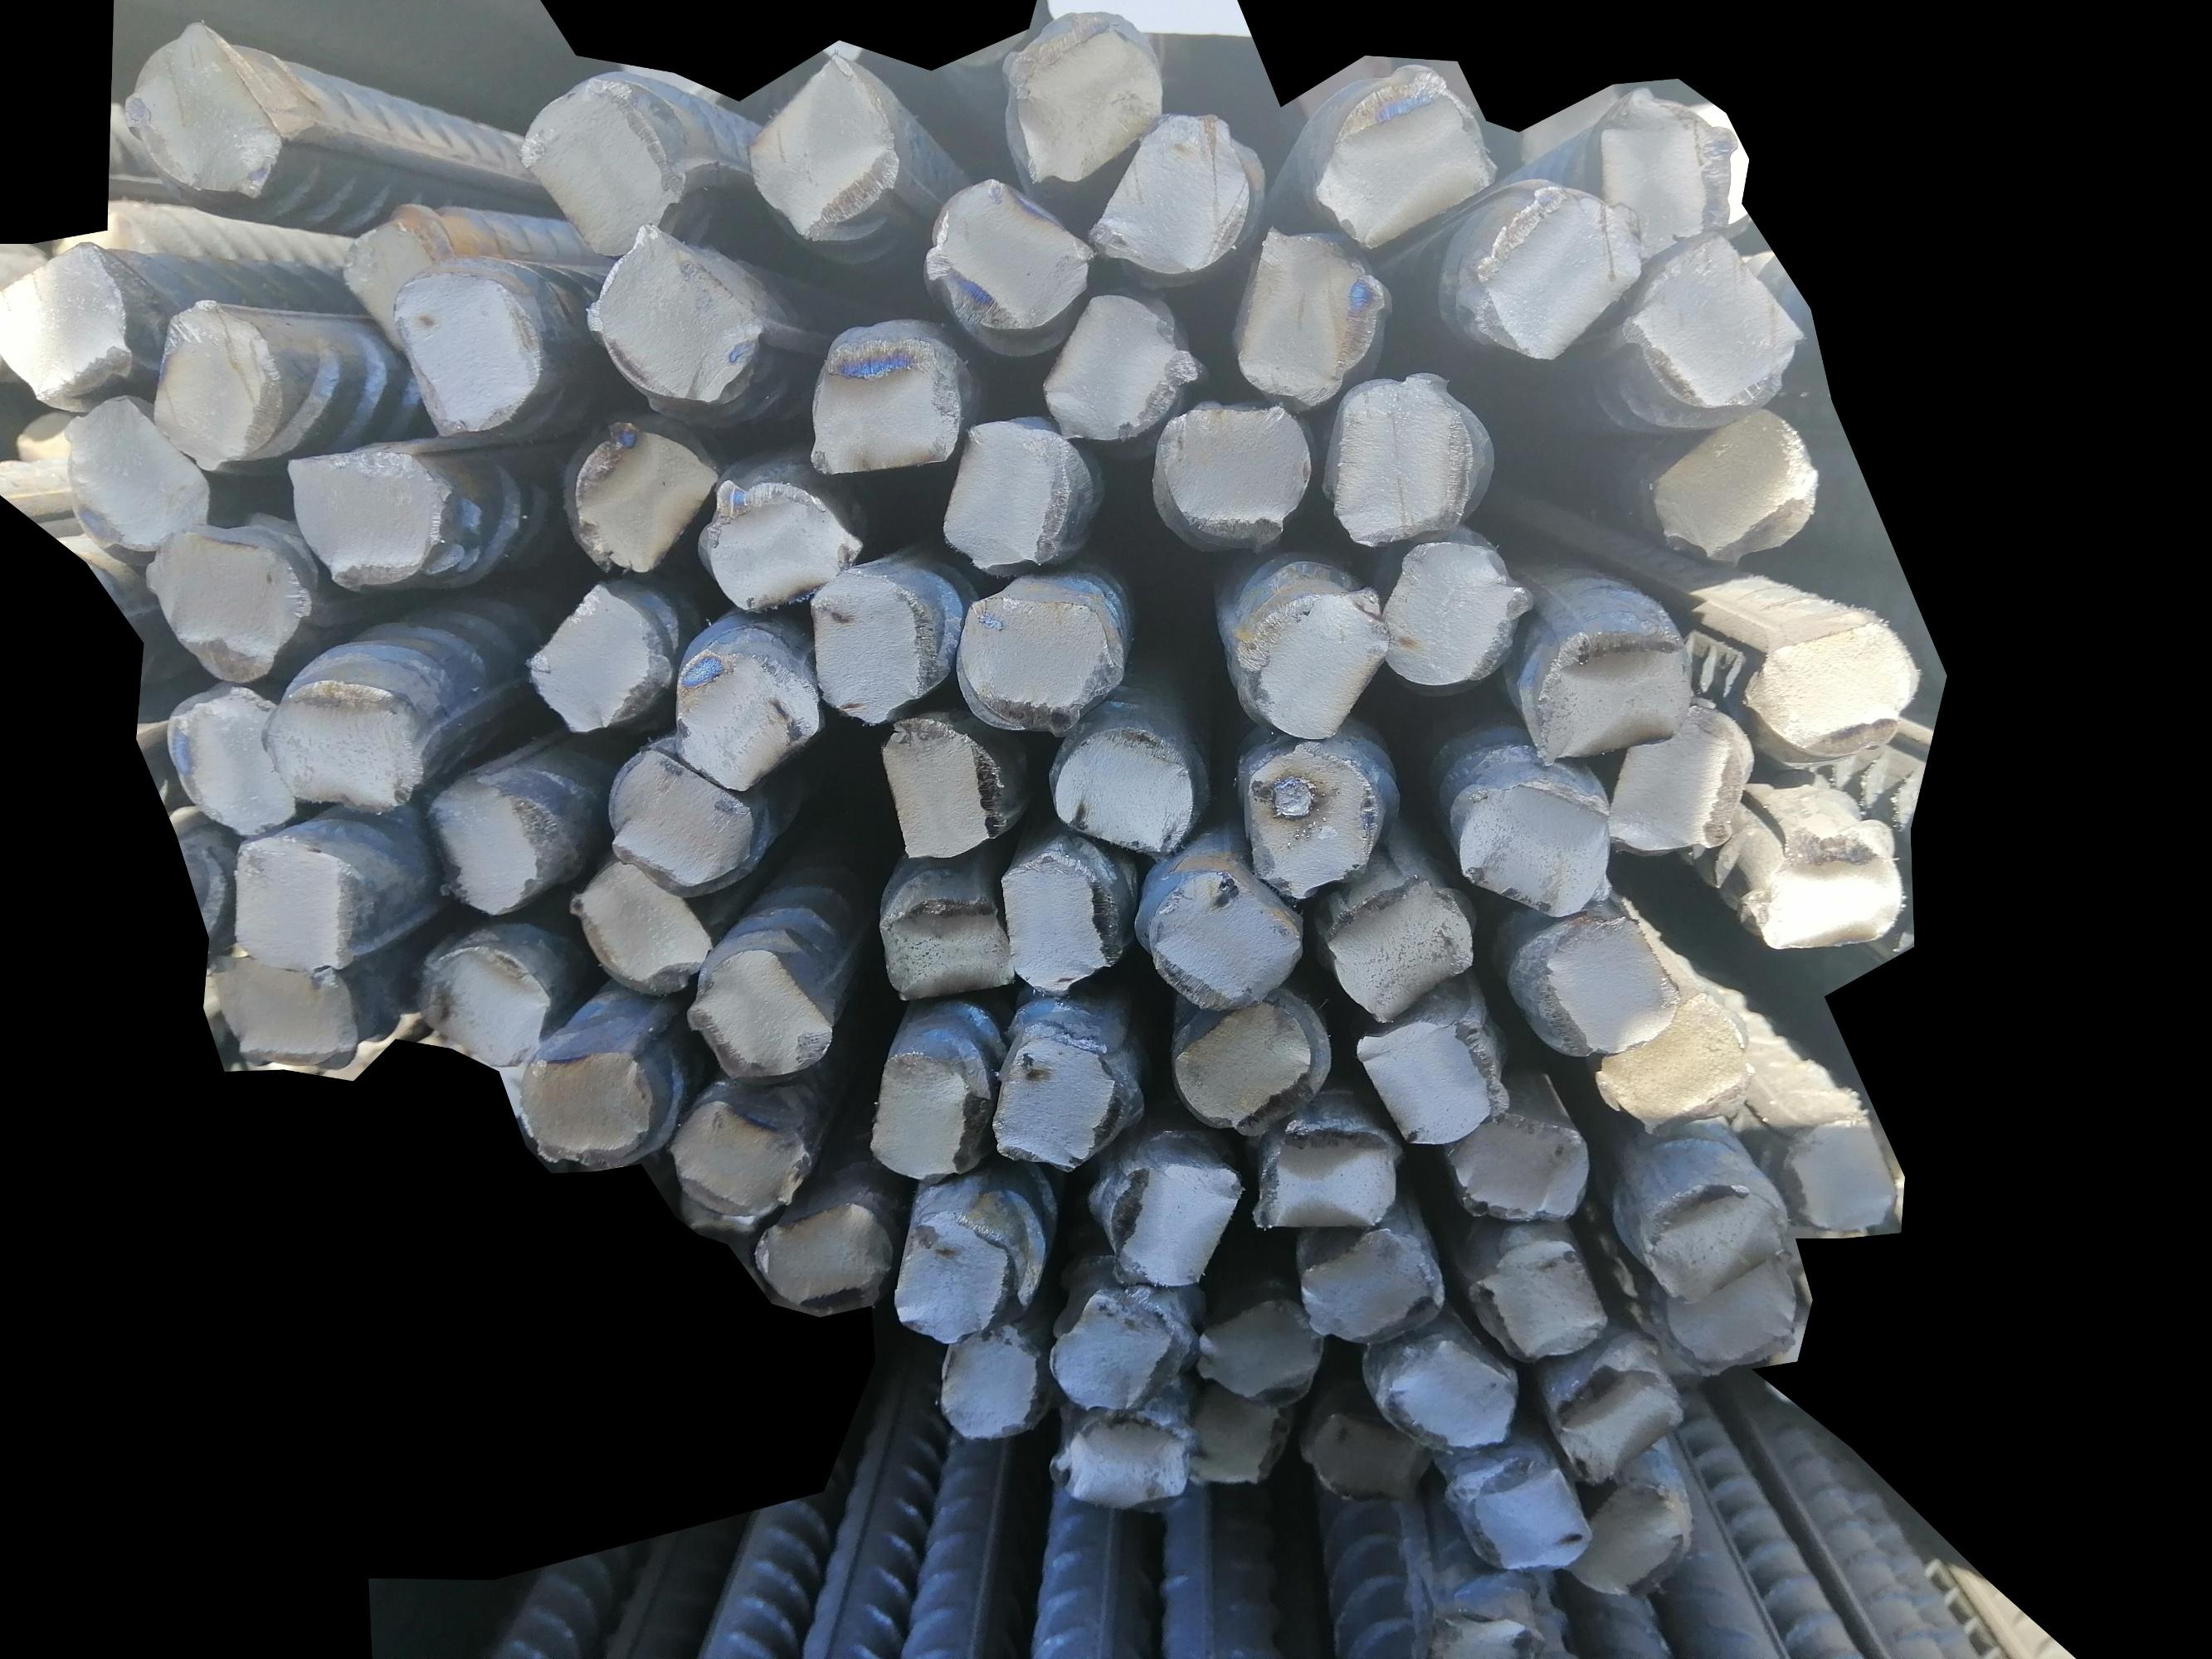bar: (523, 64, 699, 265), (575, 214, 762, 403), (1480, 178, 1658, 369), (126, 16, 300, 211), (1625, 232, 1806, 413), (139, 509, 314, 695), (748, 61, 915, 244), (387, 265, 547, 451), (1361, 519, 1529, 697), (1740, 605, 1917, 769), (1008, 0, 1163, 185), (952, 580, 1133, 735), (1224, 230, 1391, 397), (1586, 87, 1748, 258), (1313, 84, 1487, 242), (1095, 101, 1250, 279), (1523, 606, 1691, 770), (1513, 904, 1686, 1060), (804, 324, 967, 486), (1349, 1006, 1532, 1150), (1232, 573, 1388, 742), (929, 174, 1089, 336), (0, 234, 145, 413), (1323, 369, 1475, 540), (695, 469, 868, 619), (148, 293, 289, 476), (1225, 735, 1384, 897), (1131, 859, 1300, 1011), (1325, 864, 1478, 1030), (66, 390, 214, 559), (1628, 1168, 1797, 1314), (664, 641, 824, 795), (521, 573, 666, 742), (288, 444, 450, 594), (1743, 823, 1910, 967), (927, 415, 1081, 572), (1457, 770, 1619, 918), (265, 673, 434, 814), (567, 415, 723, 566), (804, 561, 947, 727), (594, 739, 751, 889), (662, 1080, 819, 1223), (422, 762, 560, 922), (166, 676, 302, 838), (1672, 411, 1818, 559), (1166, 988, 1318, 1131), (1042, 727, 1204, 857), (1604, 985, 1752, 1126), (410, 932, 556, 1073), (882, 706, 1013, 863), (577, 847, 720, 990), (1607, 720, 1754, 859), (1159, 399, 1313, 532), (988, 836, 1116, 995), (1093, 1150, 1236, 1291), (207, 939, 364, 1066), (988, 1028, 1128, 1171), (1037, 289, 1175, 434), (1424, 1100, 1590, 1220), (228, 836, 366, 978), (507, 1037, 657, 1164), (1551, 1473, 1698, 1601), (689, 958, 835, 1086), (1450, 1445, 1590, 1577), (1253, 1117, 1403, 1239), (1379, 1324, 1513, 1457), (1551, 1358, 1682, 1492), (1659, 1243, 1797, 1370), (865, 1044, 983, 1187), (1476, 1232, 1609, 1358), (872, 890, 1016, 1004), (1049, 1401, 1199, 1509), (896, 1208, 1014, 1344), (336, 214, 450, 352), (1787, 1098, 1898, 1236), (1053, 1295, 1177, 1417), (1192, 1288, 1321, 1405), (1306, 1229, 1435, 1342), (760, 1202, 892, 1312), (927, 1321, 1044, 1441), (1300, 1399, 1428, 1509), (1184, 1375, 1285, 1500)
